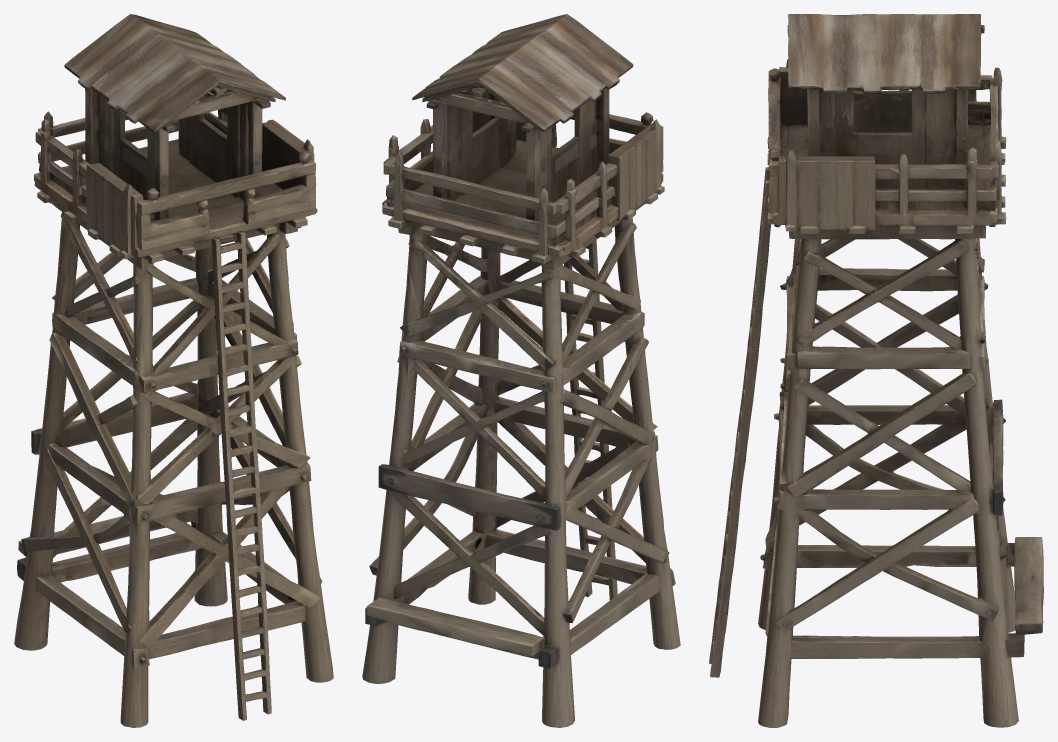
Rendered from tower-high.glb.
3 views of the same model, side by side, from view 1: azimuth 30°, elevation 25°; view 2: azimuth 150°, elevation 25°; view 3: azimuth 270°, elevation 25° (orthographic). The views are drawn at different scales.
Visible parts, largest first — view 1: tower-v2-high; view 2: tower-v2-high; view 3: tower-v2-high.
Boxes of the visible parts, bbox=[...] form: tower-v2-high: bbox=[14, 14, 333, 727]; tower-v2-high: bbox=[362, 14, 680, 727]; tower-v2-high: bbox=[709, 14, 1043, 727].
Size of the model in its own units: 0.3565 by 1 by 0.4602.
Materials: 1 (1 with a texture image).
